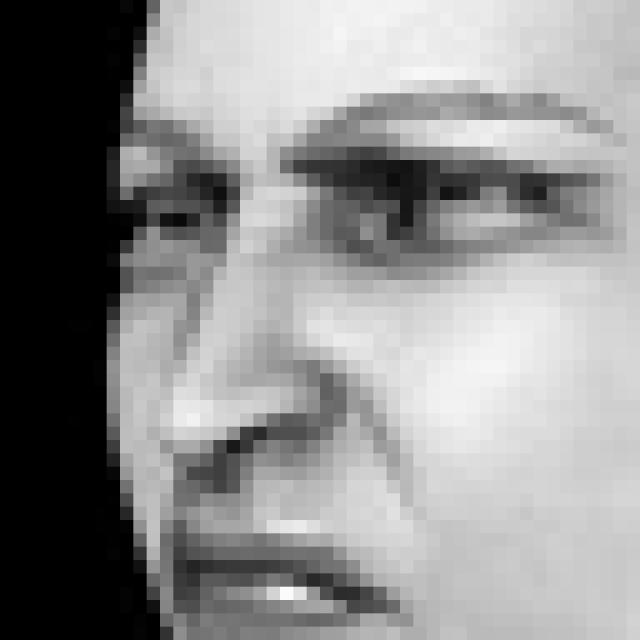disgust: (120, 88, 599, 633)
